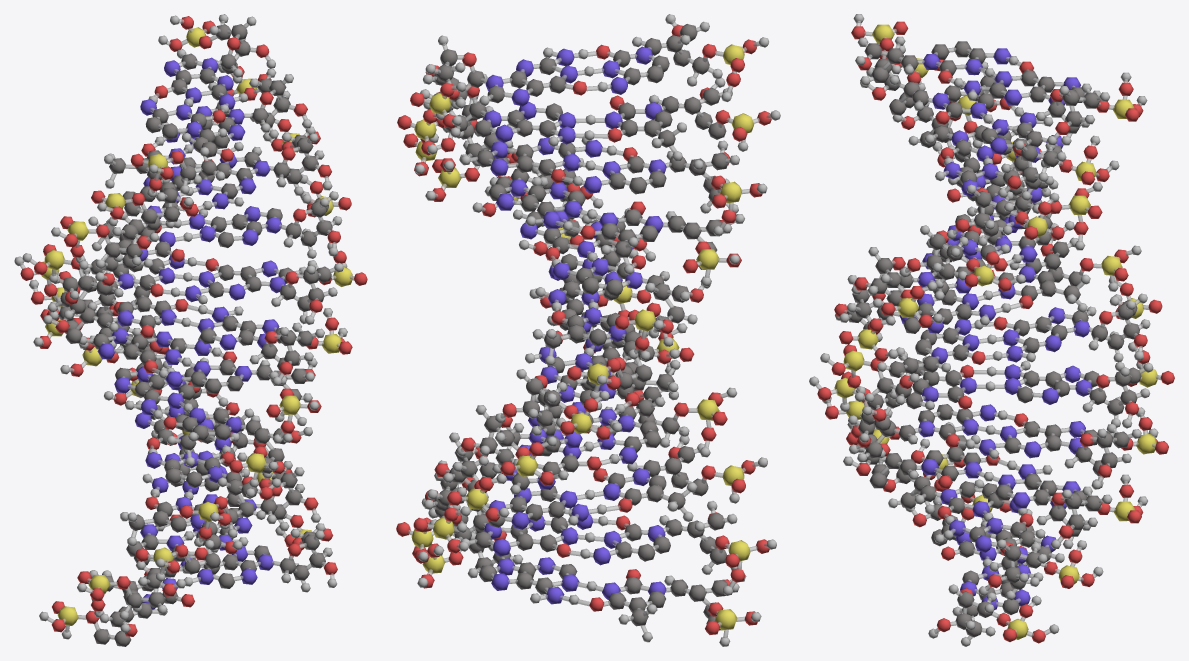
The model's file is human_dna (1).glb.
3 views of the same model, side by side, from view 1: azimuth 30°, elevation 25°; view 2: azimuth 150°, elevation 25°; view 3: azimuth 270°, elevation 25° (orthographic). The views are drawn at different scales.
Size of the model in its own units: 33.89 by 57.11 by 33.99.
